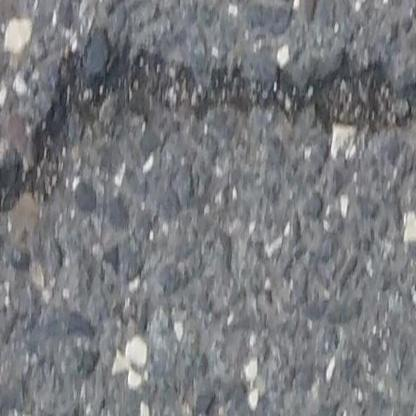Cracks: (0, 30, 416, 231)
